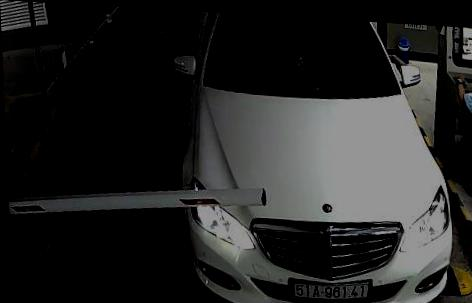License_Plate: (287, 276, 373, 303)
